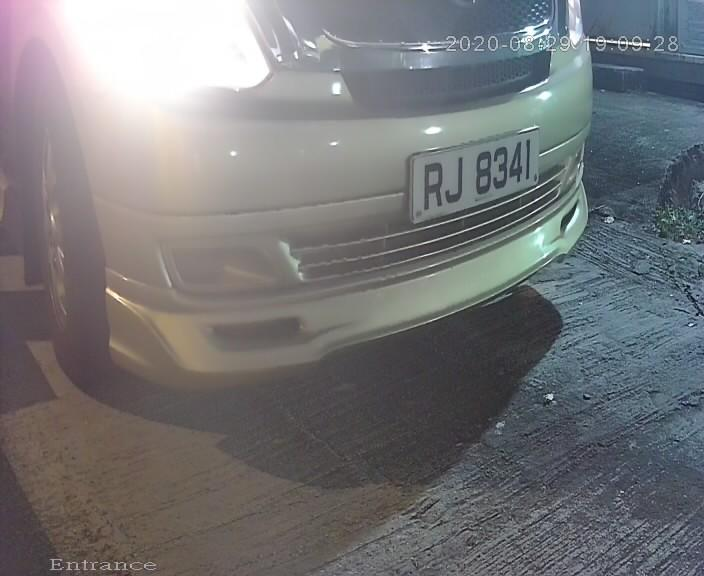License Plate: (397, 114, 551, 242)
